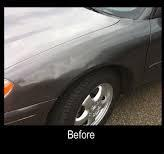dent: (31, 54, 96, 75)
